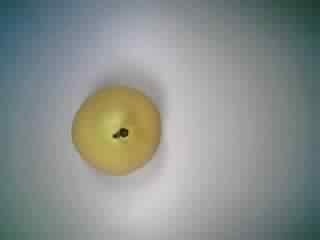pear: (62, 78, 164, 179)
